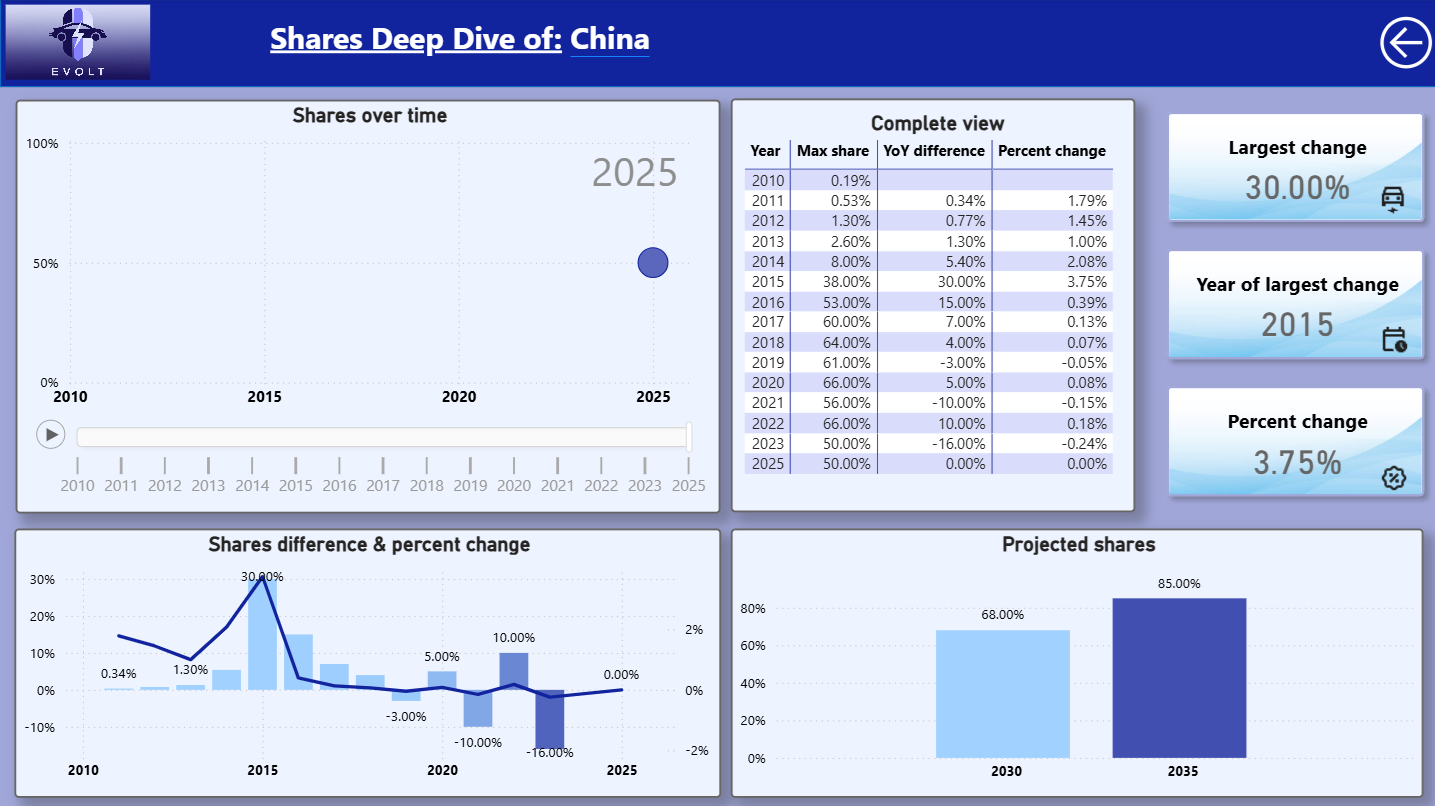

The dashboard page shown, as its layout file describes it:
{"tool":"powerbi","page":{"name":"Shares Deep Dive","canvas":[1280,720],"ordinal":3},"visuals":[{"type":"shape","box":[0,0,1279.1,78.3],"z":0},{"type":"cardVisual","title":"Highlights","fields":{"Data":["Max(EV_Data.YOY_Share_Difference)","Measure_Table.mLargest_Share_Change_Year","Measure_Table.mLargest_Share_Change_Perc"]},"box":[1020.7,88.9,258.4,368.3],"z":0,"group":"g1"},{"type":"textbox","box":[138.2,10.2,541.3,55],"z":1000},{"type":"image","box":[1212.4,285.3,53.8,36.2],"z":1000,"group":"g1"},{"type":"actionButton","box":[1220.8,0,58.9,76.8],"z":2000},{"type":"image","box":[1212.4,161.4,52.6,36.2],"z":2000,"group":"g1"},{"type":"scatterChart","title":"Shares over time","fields":{"Play":["EV_Data.year"],"Category":["EV_Data.region"],"X":["Max(EV_Data.year)"],"Y":["Max(EV_Data.Max_Share)"],"Size":["Max(EV_Data.Max_Share)"]},"box":[13.3,89.4,627.1,368.3],"z":3000},{"type":"image","box":[1213.6,408.1,52.6,36.2],"z":3000,"group":"g1"},{"type":"tableEx","title":"Complete view","fields":{"Values":["EV_Data.year","Max(EV_Data.Max_Share)","Max(EV_Data.YOY_Share_Difference)","Max(EV_Data.Percent_Change_Share)"]},"box":[650.1,88.9,360.1,368.3],"z":4000},{"type":"lineClusteredColumnComboChart","title":"Shares difference & percent change","fields":{"Y2":["Max(EV_Data.Percent_Change_Share)"],"Category":["EV_Data.year"],"Y":["Max(EV_Data.YOY_Share_Difference)"]},"box":[12.8,470.9,628.3,239.3],"z":5000},{"type":"image","box":[0,0,138.2,76.8],"z":6000},{"type":"group","id":"g1","title":"Group 1","box":[1020.7,88.9,258.4,368.3],"z":7000},{"type":"clusteredColumnChart","title":"Projected shares","fields":{"Category":["EV_Data.year"],"Y":["Max(EV_Data.Max_Share)"]},"box":[650.1,471.2,616.1,239.7],"z":8000}]}

Visuals, with their boxes in screenshot pixels (x1, y1, x2, y2), scaled from the page's 1280x720 canvas onto the 1435x806 screenshot:
shape: left=0, top=0, right=1434, bottom=88
"Highlights" cardVisual: left=1144, top=100, right=1434, bottom=512
textbox: left=155, top=11, right=762, bottom=73
image: left=1359, top=319, right=1420, bottom=360
actionButton: left=1369, top=0, right=1434, bottom=86
image: left=1359, top=181, right=1418, bottom=221
"Shares over time" scatterChart: left=15, top=100, right=718, bottom=512
image: left=1361, top=457, right=1420, bottom=497
"Complete view" tableEx: left=729, top=100, right=1133, bottom=512
"Shares difference & percent change" lineClusteredColumnComboChart: left=14, top=527, right=719, bottom=795
image: left=0, top=0, right=155, bottom=86
"Group 1" group: left=1144, top=100, right=1434, bottom=512
"Projected shares" clusteredColumnChart: left=729, top=527, right=1420, bottom=796
